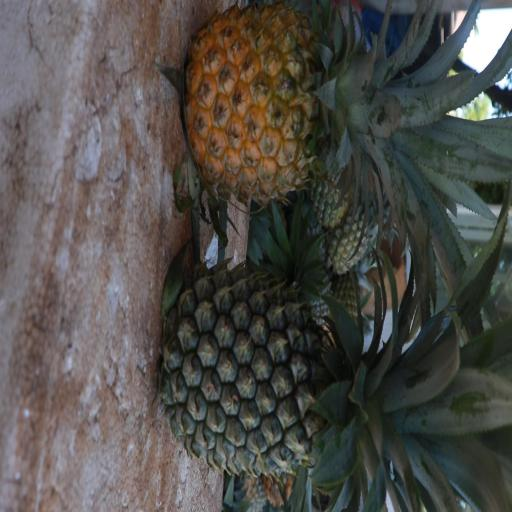Pineapple - v8 v1: (190, 14, 473, 206)
